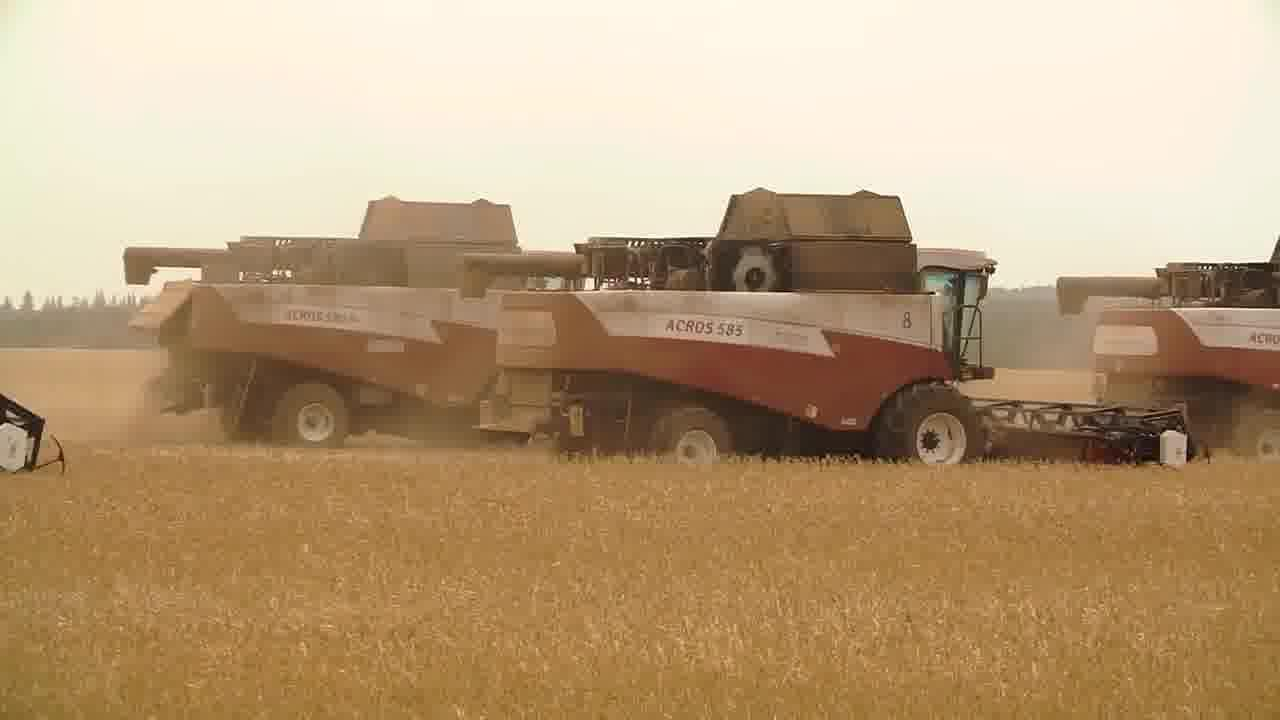combine harvester: (456, 183, 1217, 491), (115, 191, 573, 462), (1053, 234, 1280, 474)
